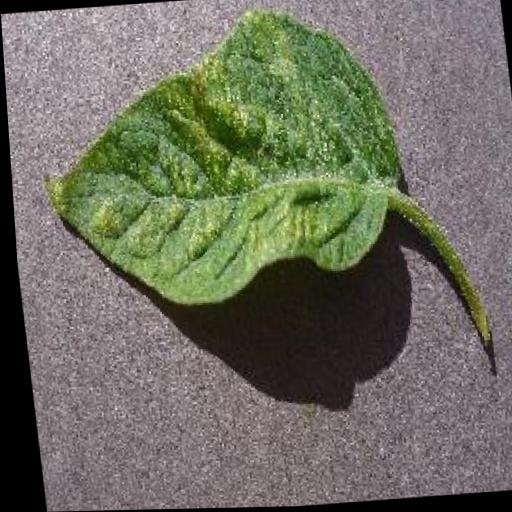Spider Mites: (24, 3, 411, 315)
